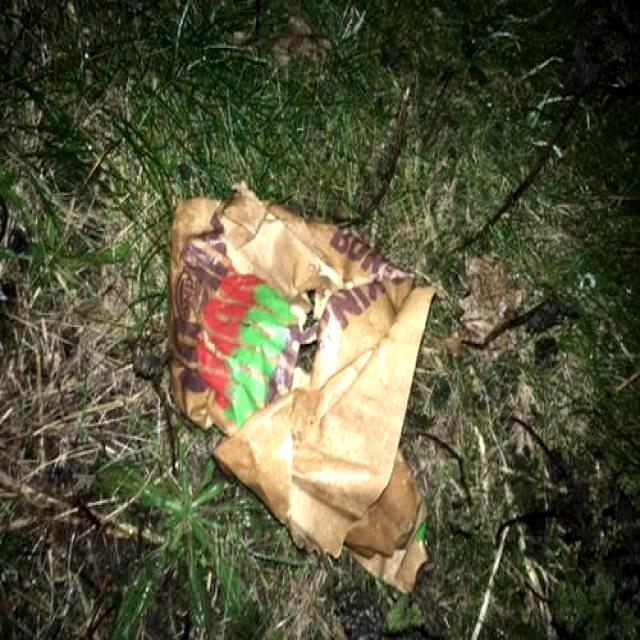Paper: (164, 178, 446, 602)
